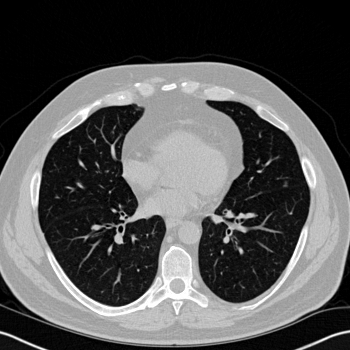nodule: (283, 182, 287, 186)
